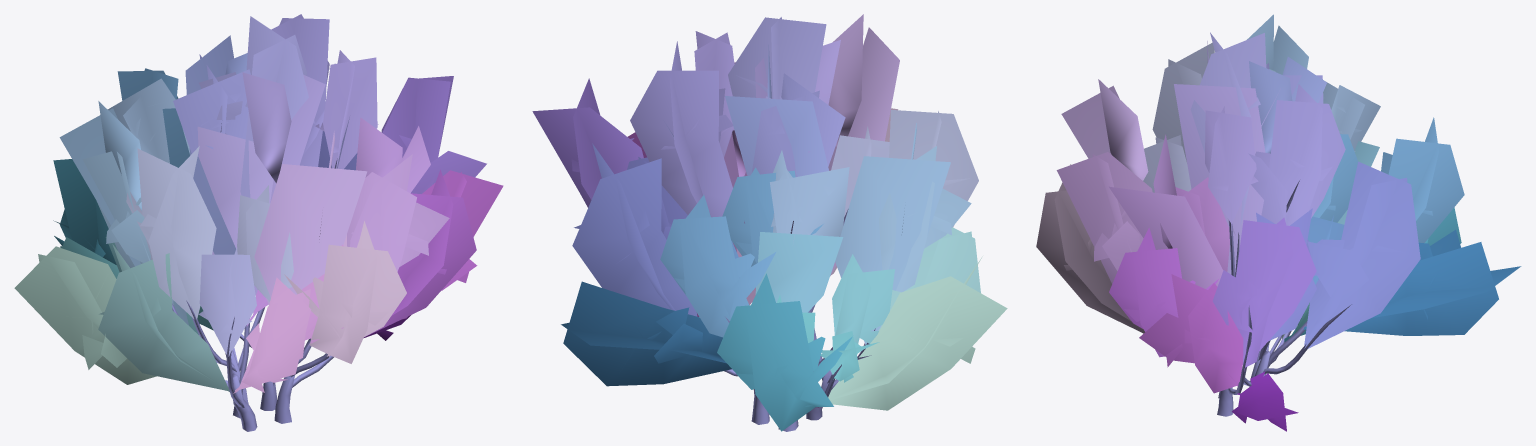
3 views of the same model, side by side, from view 1: azimuth 30°, elevation 25°; view 2: azimuth 150°, elevation 25°; view 3: azimuth 270°, elevation 25° (orthographic). The views are drawn at different scales.
Parts seen in each view (by area): view 1: SM_BS_Oleander_180cm_HD; view 2: SM_BS_Oleander_180cm_HD; view 3: SM_BS_Oleander_180cm_HD.
Part boxes in pixels (x1=…): SM_BS_Oleander_180cm_HD: x1=14, y1=14, x2=503, y2=431; SM_BS_Oleander_180cm_HD: x1=532, y1=14, x2=1007, y2=431; SM_BS_Oleander_180cm_HD: x1=1036, y1=14, x2=1521, y2=431.
Bounding box in the file's own units: 70.52 × 72.56 × 60.11.
